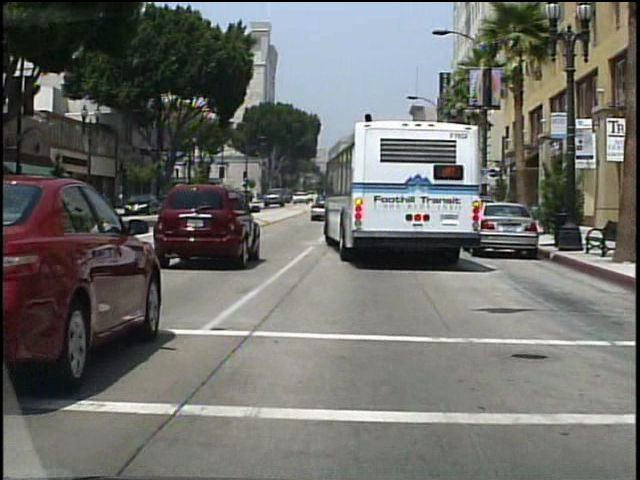person: (479, 182, 492, 225)
